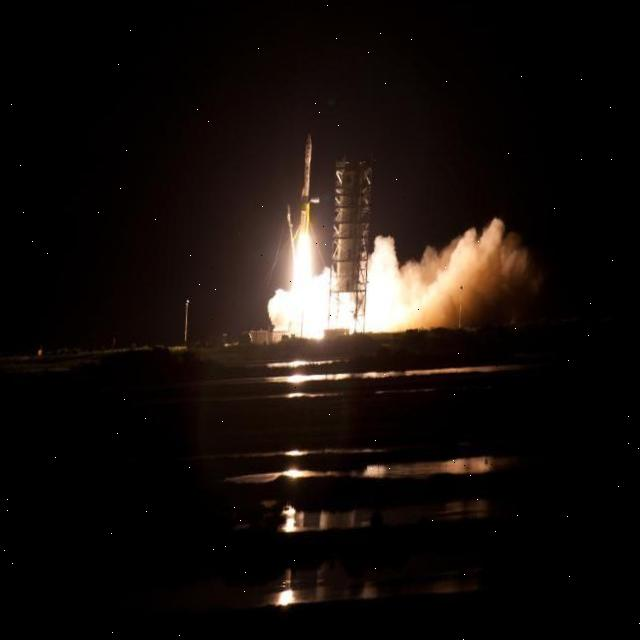missile: (293, 136, 321, 240)
